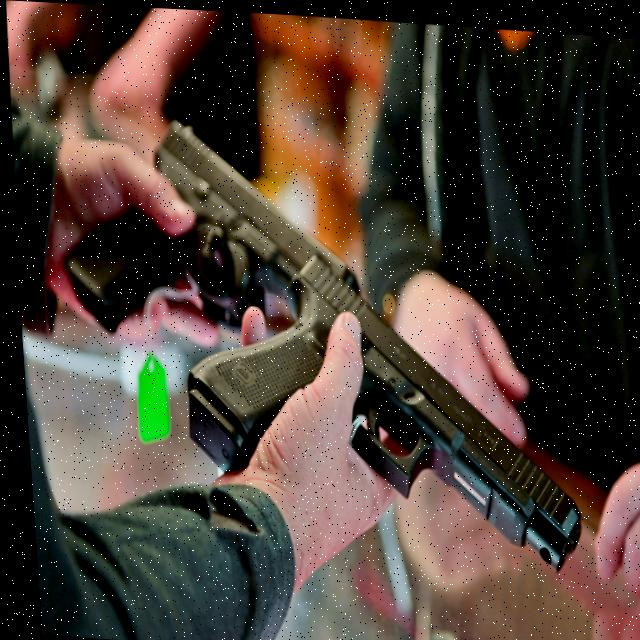pistol: (171, 245, 584, 565), (48, 104, 351, 317)
